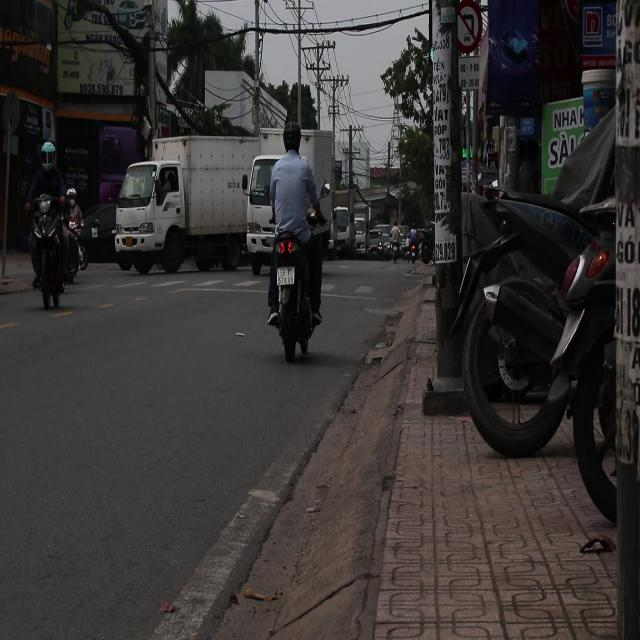car: (78, 203, 118, 264)
motorbike: (268, 211, 322, 362), (28, 203, 74, 320), (387, 226, 402, 275), (411, 234, 426, 272)
truck: (115, 135, 272, 276), (241, 94, 338, 293), (329, 205, 361, 259)
